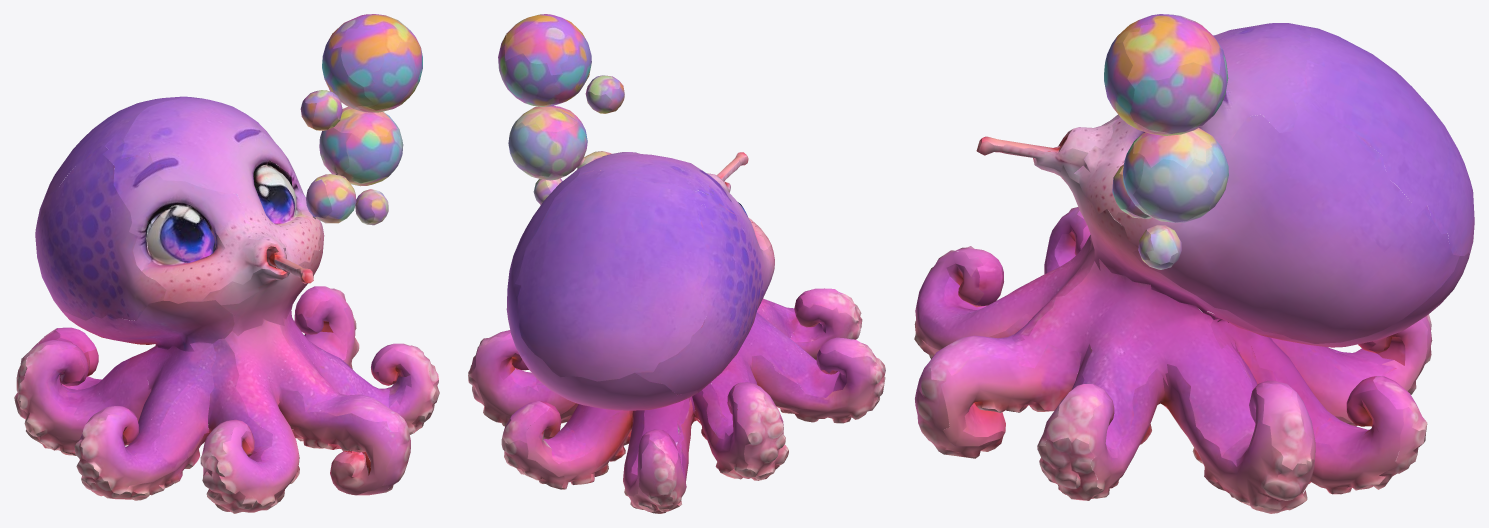
File: bubbleocto.glb
The picture shows the model from 3 angles, left to right: view 1: azimuth 30°, elevation 25°; view 2: azimuth 150°, elevation 25°; view 3: azimuth 270°, elevation 25°; orthographic projection. The views are drawn at different scales.
Visible parts, largest first — view 1: textured_mesh.obj; view 2: textured_mesh.obj; view 3: textured_mesh.obj.
Boxes of the visible parts, box(x1,y1,x2,y2) form: textured_mesh.obj: box(14, 14, 439, 513); textured_mesh.obj: box(468, 14, 885, 513); textured_mesh.obj: box(914, 14, 1474, 513).
Size of the model in its own units: 0.9252 by 1 by 0.9769.
1 material, 1 textured.
